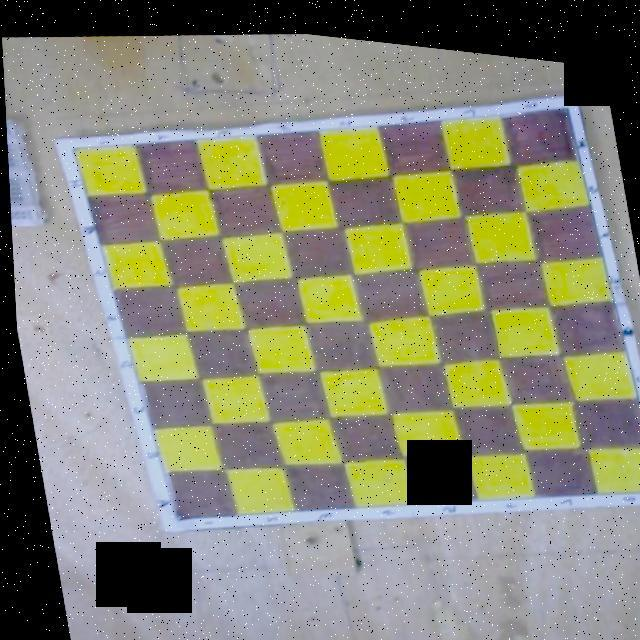chess-table-corners: (168, 512, 178, 519), (68, 144, 76, 151), (562, 93, 569, 99)
